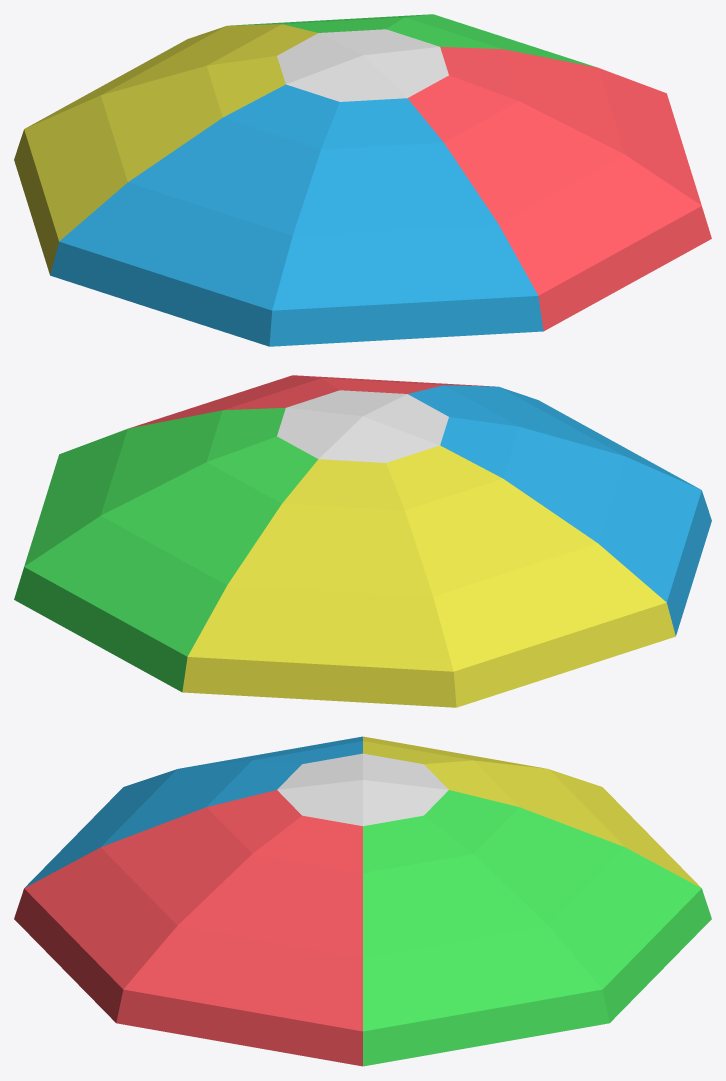
Rendered from UmbrellarColor.fbx.
3 renders of one model, top to bottom at view 1: azimuth 30°, elevation 25°; view 2: azimuth 150°, elevation 25°; view 3: azimuth 270°, elevation 25°, orthographic. The views are drawn at different scales.
Visible parts, largest first — view 1: UmbrallarColor_Geo; view 2: UmbrallarColor_Geo; view 3: UmbrallarColor_Geo.
Boxes of the visible parts, box(x1,y1,x2,y2) form: UmbrallarColor_Geo: box(14, 14, 711, 346); UmbrallarColor_Geo: box(14, 375, 711, 707); UmbrallarColor_Geo: box(14, 736, 711, 1066).
Size of the model in its own units: 1735 by 384 by 1735.
